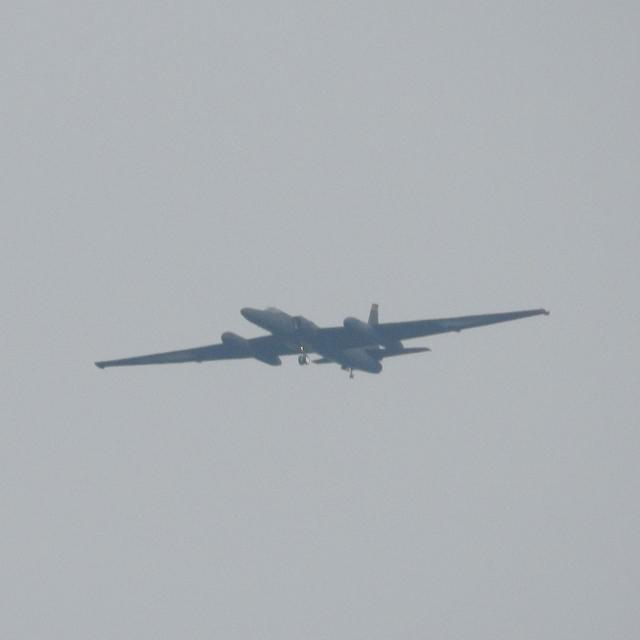MIL_Plane: (95, 302, 551, 380)
